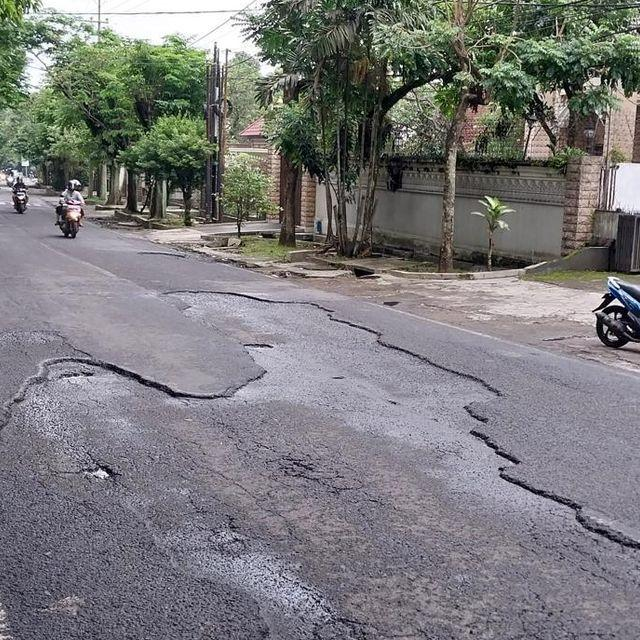lubang_kecil: (65, 452, 132, 502)
retak_kulit_buaya: (267, 440, 371, 503), (495, 590, 616, 640)
retak_memanjang: (378, 350, 640, 631), (0, 327, 245, 440), (158, 276, 362, 353)
